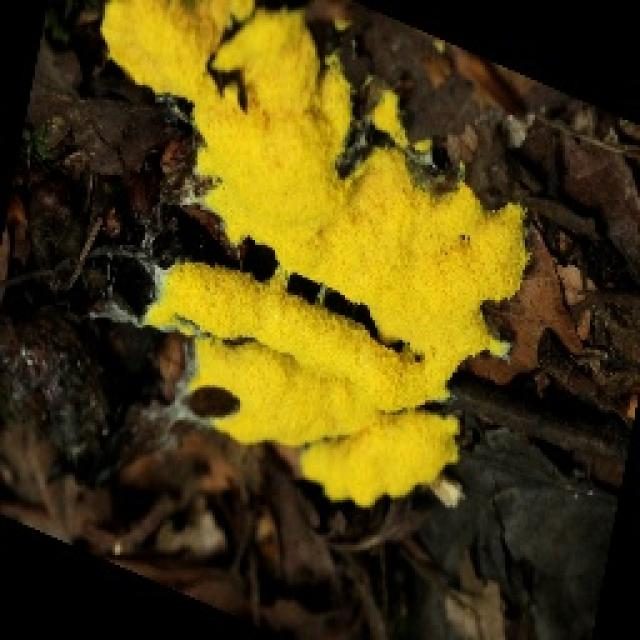Dog_vomit_slime_mold: (76, 0, 534, 507)
